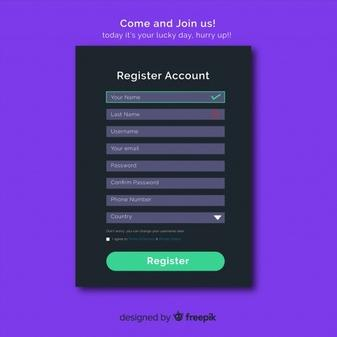button: (105, 249, 225, 272)
field: (104, 89, 226, 105), (105, 176, 226, 190), (105, 107, 225, 121), (105, 124, 225, 138), (106, 159, 226, 173), (105, 142, 226, 155), (105, 193, 226, 206)
